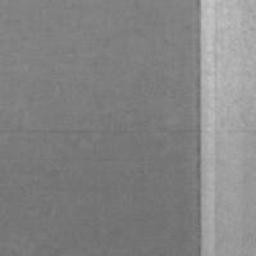Welding line: (195, 0, 204, 256)
